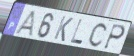6: (36, 13, 55, 40)
A: (14, 10, 37, 38)
C: (87, 22, 109, 48)
K: (52, 15, 75, 43)
L: (69, 18, 84, 46)
P: (102, 23, 127, 51)
